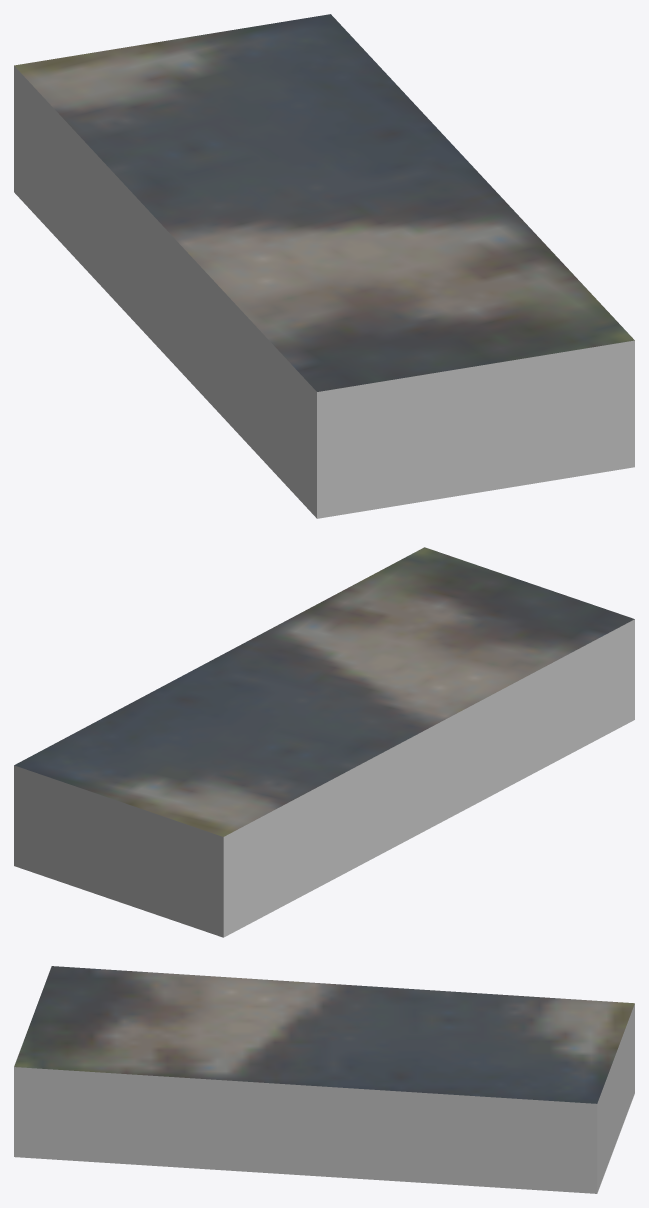
Rendered from DEBW_0010007TxbW.gltf.
The picture shows the model from 3 angles, top to bottom: view 1: azimuth 30°, elevation 25°; view 2: azimuth 150°, elevation 25°; view 3: azimuth 270°, elevation 25°; orthographic projection. The views are drawn at different scales.
Visible parts, largest first — view 1: Z_UP; view 2: Z_UP; view 3: Z_UP.
Part boxes in pixels (x1,y1,x2,y2): Z_UP: [14, 14, 634, 518]; Z_UP: [14, 547, 634, 937]; Z_UP: [14, 966, 634, 1193].
Bounding box in the file's own units: 7.78 × 2.37 × 14.81.
Materials: 2 (1 with a texture image).
